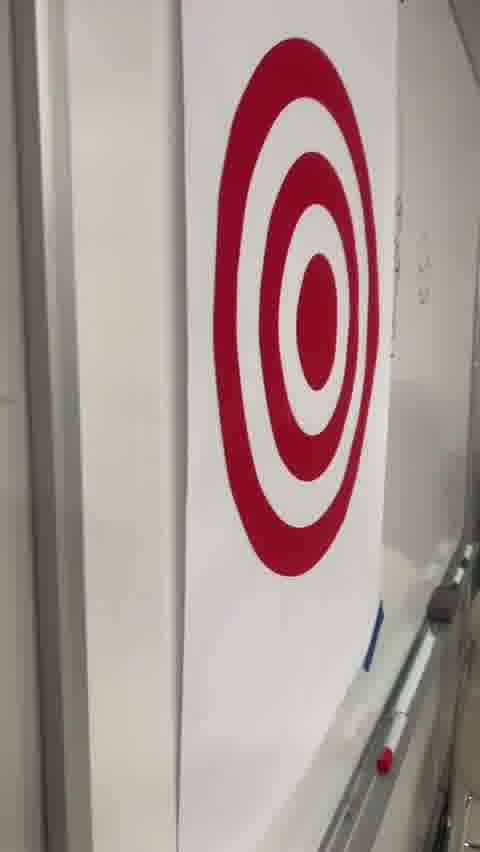target_red: (214, 37, 379, 574)
